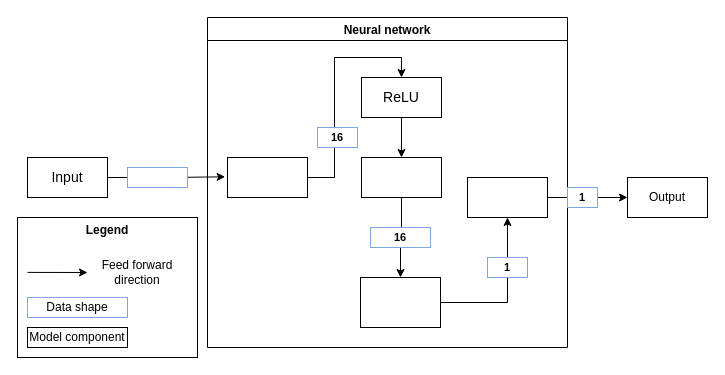
This 725x375 diagram has some shape labels left out. The shapes that lost their labels are listed below. From the top down, each one's centre as x and y in pixels, then its label:
At (157,177): "28x1500".
At (267,177): "LSTM".
At (401,177): "Dropout (p=0.1)".
At (507,197): "Sigmoid".
At (400,302): "Fully connected".
